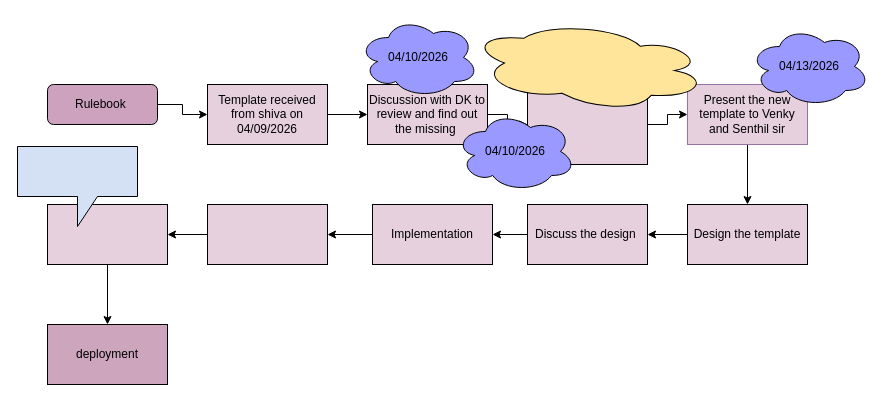
Image size: 887x403. Some labels were removed from this diagram. The centre of each missing label's shape, as x and y in pixels:
Approval: (x=107, y=234)
Finalize the new template: (x=587, y=124)
Hoping to include all the necessary content needed by US and India team rep: (x=593, y=68)
review by US rep and TM (as per DK): (x=267, y=234)
Venky and Senthil sir: (x=77, y=186)
